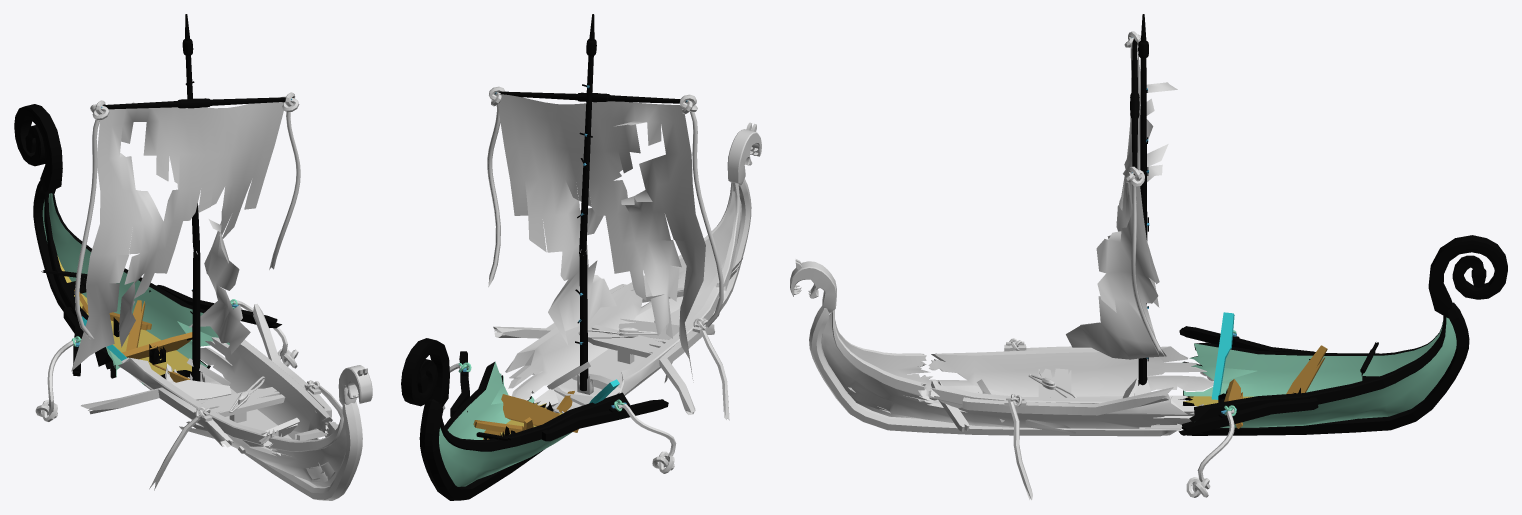
The model's file is Shipwreck.fbx.
The picture shows the model from 3 angles, left to right: view 1: azimuth 30°, elevation 25°; view 2: azimuth 150°, elevation 25°; view 3: azimuth 270°, elevation 25°; orthographic projection. The views are drawn at different scales.
Parts seen in each view (by area): view 1: Sail, Front Half, Back Half, Mast, Sail Ropes, Back Ropes, Front Ropes; view 2: Sail, Front Half, Back Half, Mast, Sail Ropes, Back Ropes, Front Ropes; view 3: Front Half, Back Half, Sail, Mast, Sail Ropes, Back Ropes.
Boxes of the visible parts, box(x1,y1,x2,y2) form: Sail: box(71, 96, 284, 371); Front Half: box(81, 304, 372, 500); Back Half: box(14, 104, 281, 385); Mast: box(101, 14, 293, 381); Sail Ropes: box(74, 92, 300, 339); Back Ropes: box(35, 300, 298, 421); Front Ropes: box(149, 384, 342, 490); Sail: box(496, 93, 705, 382); Front Half: box(493, 122, 761, 414); Back Half: box(401, 338, 668, 500); Mast: box(494, 14, 691, 390); Sail Ropes: box(487, 86, 723, 327); Back Ropes: box(442, 363, 676, 473); Front Ropes: box(701, 330, 729, 420); Front Half: box(790, 259, 1213, 436); Back Half: box(1178, 235, 1507, 435); Sail: box(1066, 54, 1177, 359); Mast: box(1130, 14, 1149, 385); Sail Ropes: box(1124, 31, 1165, 356); Back Ropes: box(1186, 342, 1234, 497).
Size of the model in its own units: 531 by 821 by 1231.
